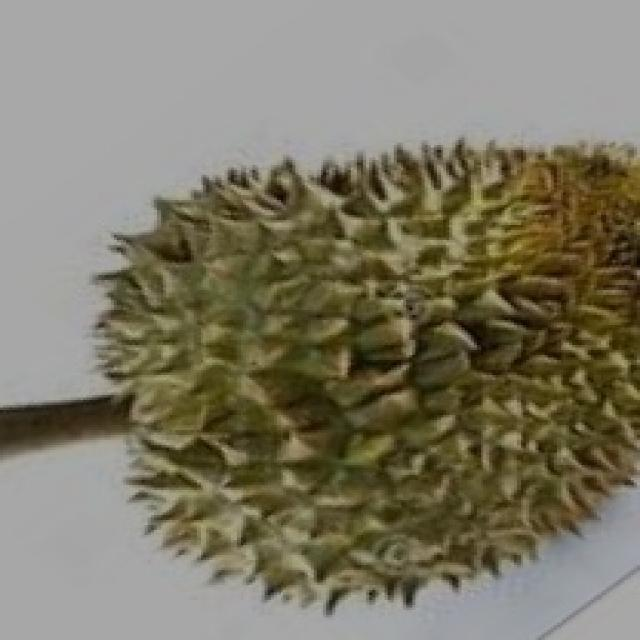fruit: (249, 248, 640, 638), (46, 257, 397, 640)
